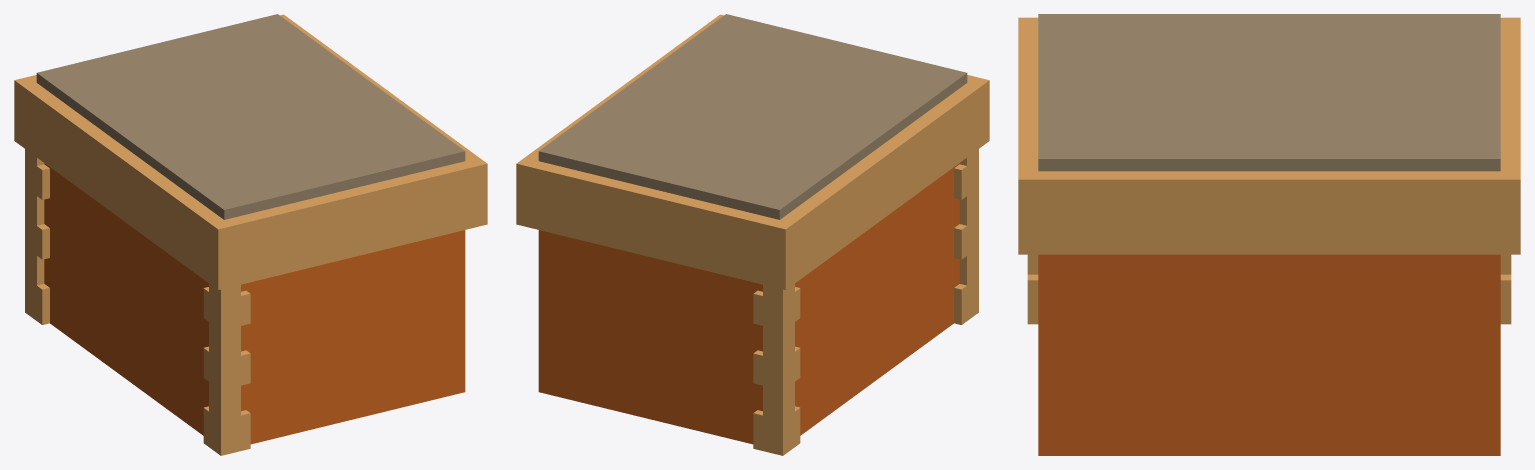
The model's file is building3_side_top.fbx.
3 views of the same model, side by side, from view 1: azimuth 30°, elevation 25°; view 2: azimuth 150°, elevation 25°; view 3: azimuth 270°, elevation 25° (orthographic). The views are drawn at different scales.
Visible parts, largest first — view 1: building3_side_top; view 2: building3_side_top; view 3: building3_side_top.
Boxes of the visible parts, left/top/right/bottom form: building3_side_top: left=14, top=14, right=487, bottom=455; building3_side_top: left=516, top=14, right=989, bottom=455; building3_side_top: left=1018, top=14, right=1520, bottom=455.
Size of the model in its own units: 396 by 339 by 520.
